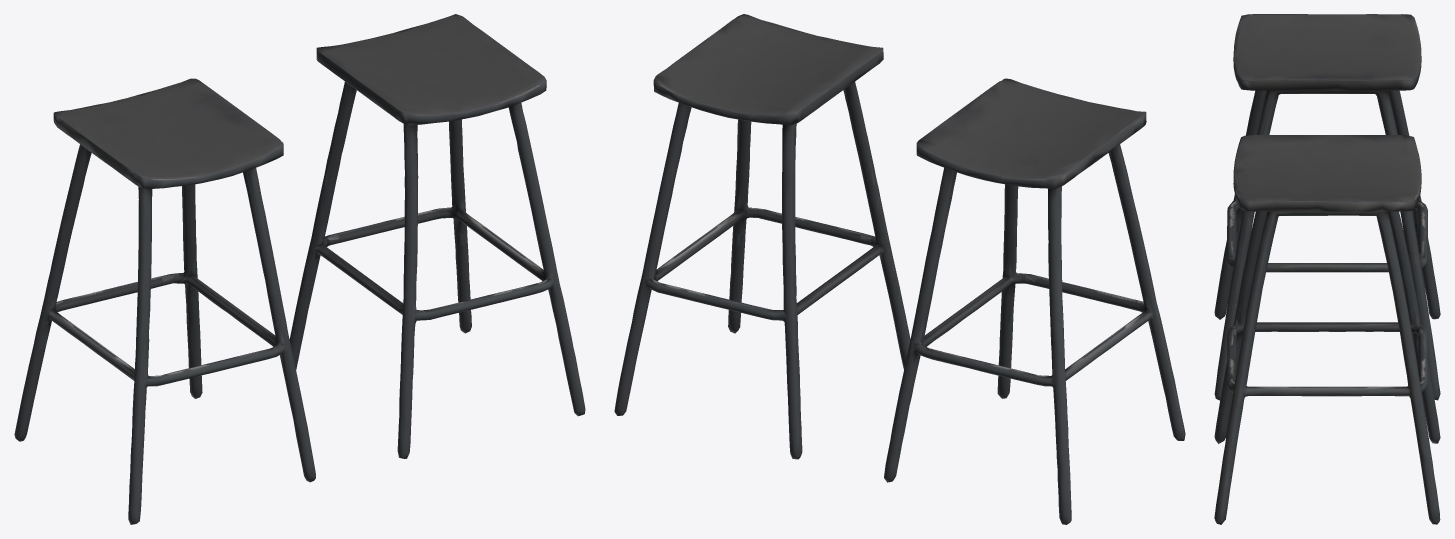
File: kahvesandalyesi.fbx
The picture shows the model from 3 angles, left to right: view 1: azimuth 30°, elevation 25°; view 2: azimuth 150°, elevation 25°; view 3: azimuth 270°, elevation 25°; orthographic projection. The views are drawn at different scales.
Parts seen in each view (by area): view 1: Mesh_0; view 2: Mesh_0; view 3: Mesh_0.
Part boxes in pixels (bbox=[...]): Mesh_0: bbox=[14, 14, 585, 524]; Mesh_0: bbox=[614, 14, 1185, 524]; Mesh_0: bbox=[1214, 14, 1440, 524].
Size of the model in its own units: 191 by 134 by 87.1.
Materials: 1 (1 with a texture image).
